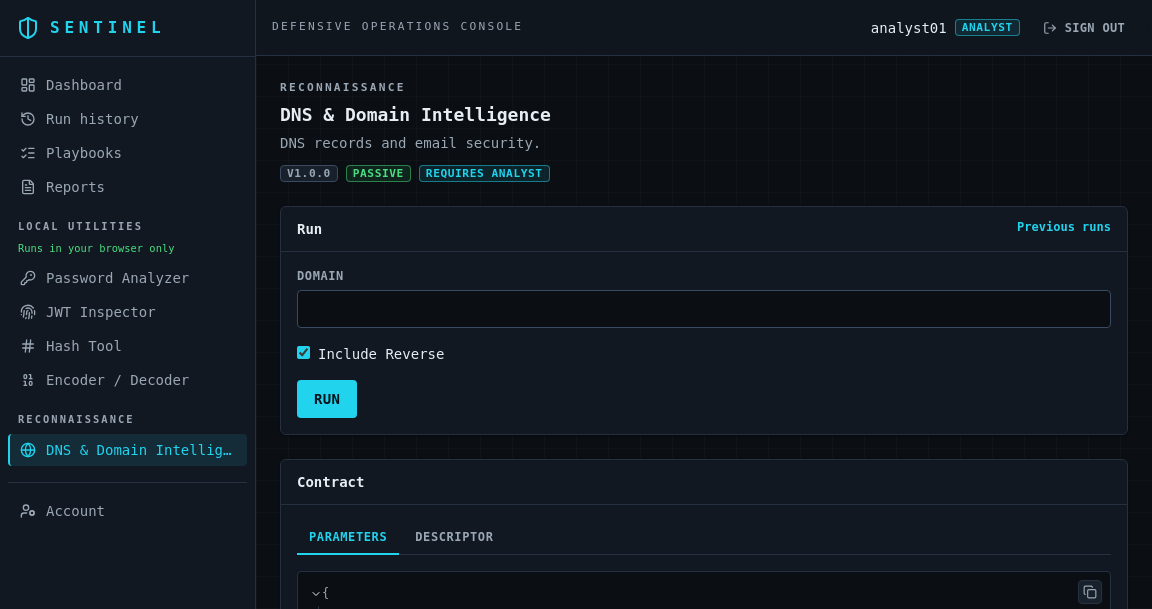
starting a run › explains a scope denial
Type "example.com" into the field labelled "Domain" at (704, 309), box [297,290,1111,328]
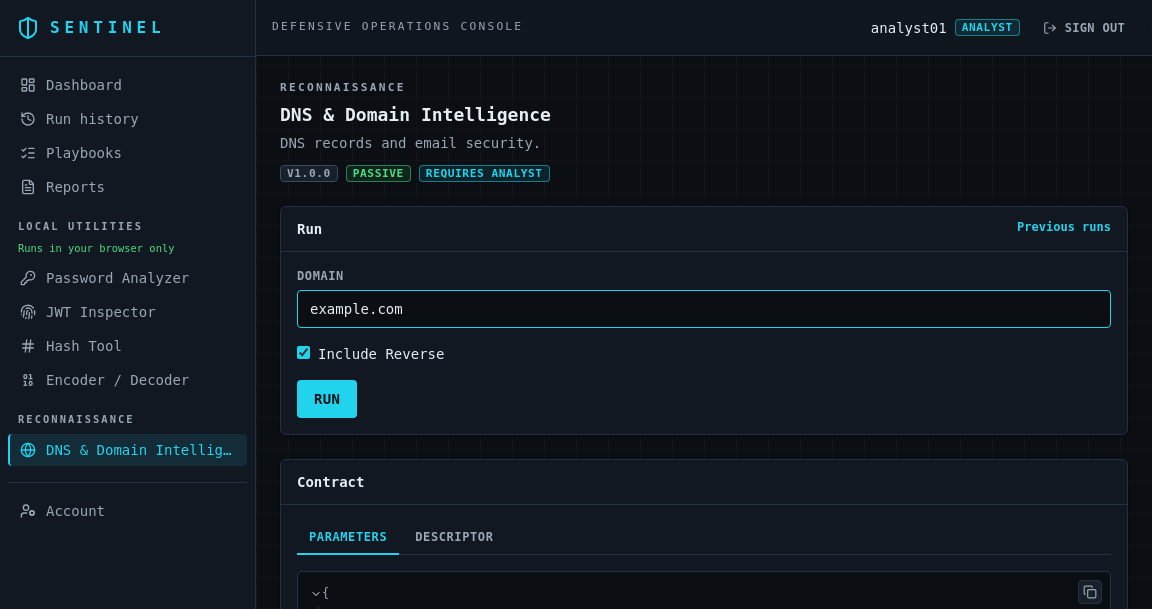
Click the button "Run" at (327, 399), box [297,380,357,418]
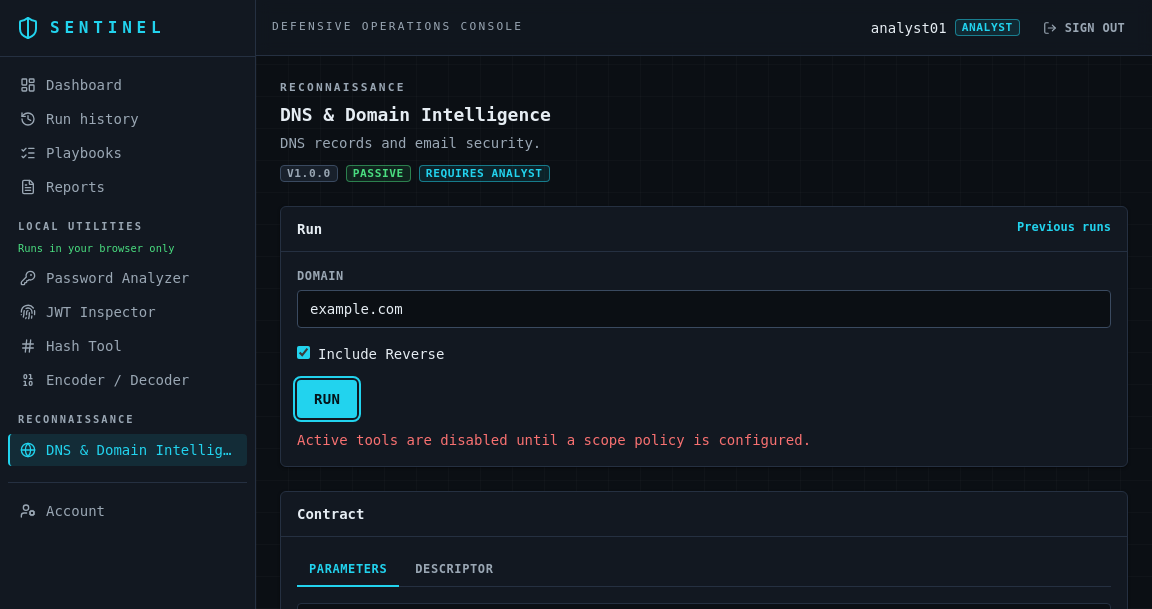
Expected: the message "Active tools are disabled until a scope policy is configured." is shown, [297,432,811,448]
